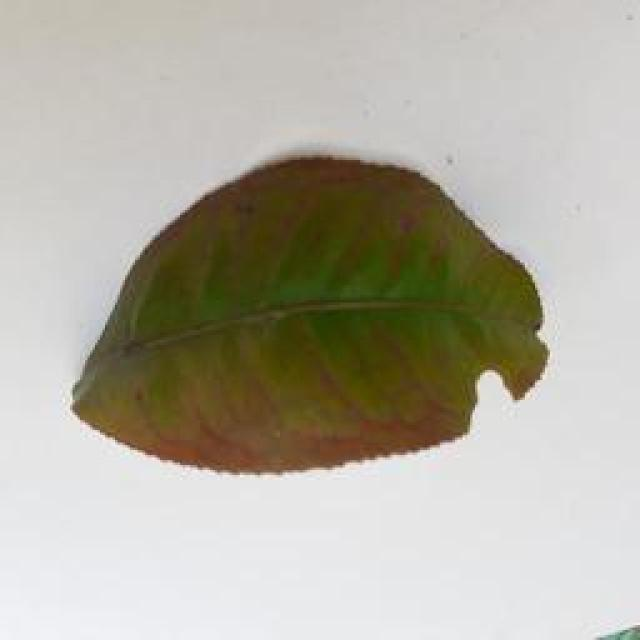Red Leaf Spot: (16, 148, 555, 485)
